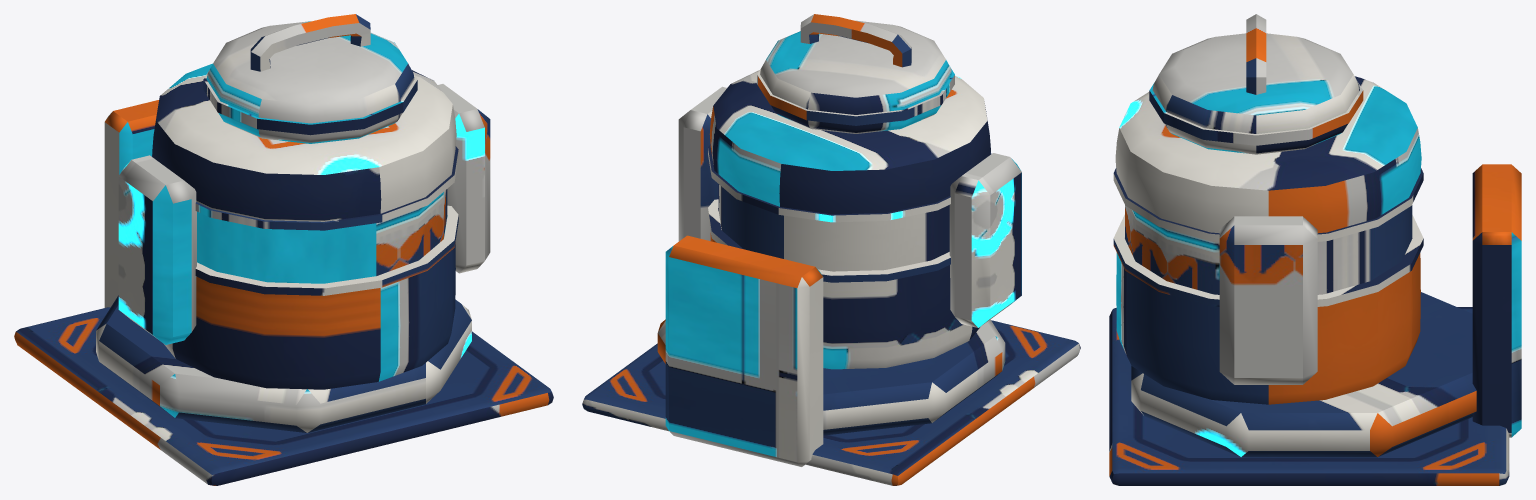
The model's file is R4X_Battery.fbx.
3 renders of one model, left to right at view 1: azimuth 30°, elevation 25°; view 2: azimuth 150°, elevation 25°; view 3: azimuth 270°, elevation 25°, orthographic. The views are drawn at different scales.
Visible parts, largest first — view 1: R4X_Battery_Body, R4X_Battery_Cap; view 2: R4X_Battery_Body, R4X_Battery_Cap; view 3: R4X_Battery_Body, R4X_Battery_Cap.
Boxes of the visible parts, x1,y1,x2,y2 form: R4X_Battery_Body: (14, 63, 553, 485); R4X_Battery_Cap: (203, 14, 417, 143); R4X_Battery_Body: (582, 70, 1080, 485); R4X_Battery_Cap: (757, 14, 954, 133); R4X_Battery_Body: (1109, 76, 1521, 485); R4X_Battery_Cap: (1149, 14, 1363, 154).
Bounding box in the file's own units: 0.49 × 0.504 × 0.505.
